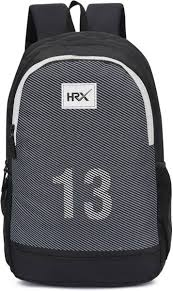backpack: (0, 0, 172, 287)
